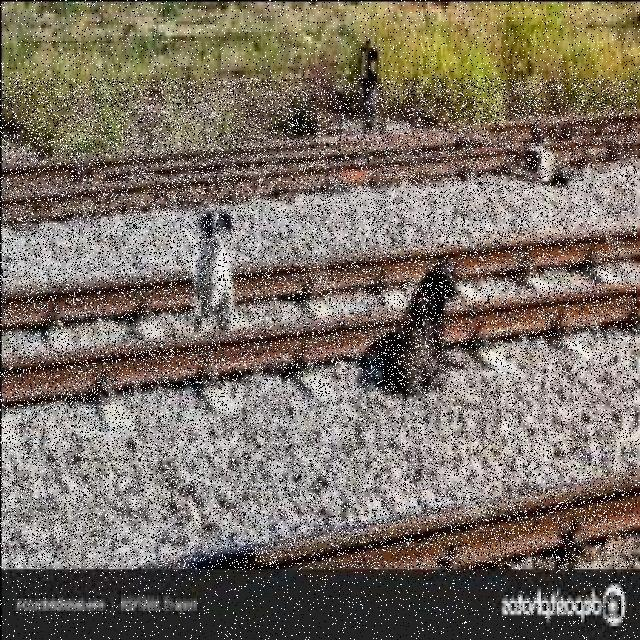rail: (1, 79, 638, 569)
